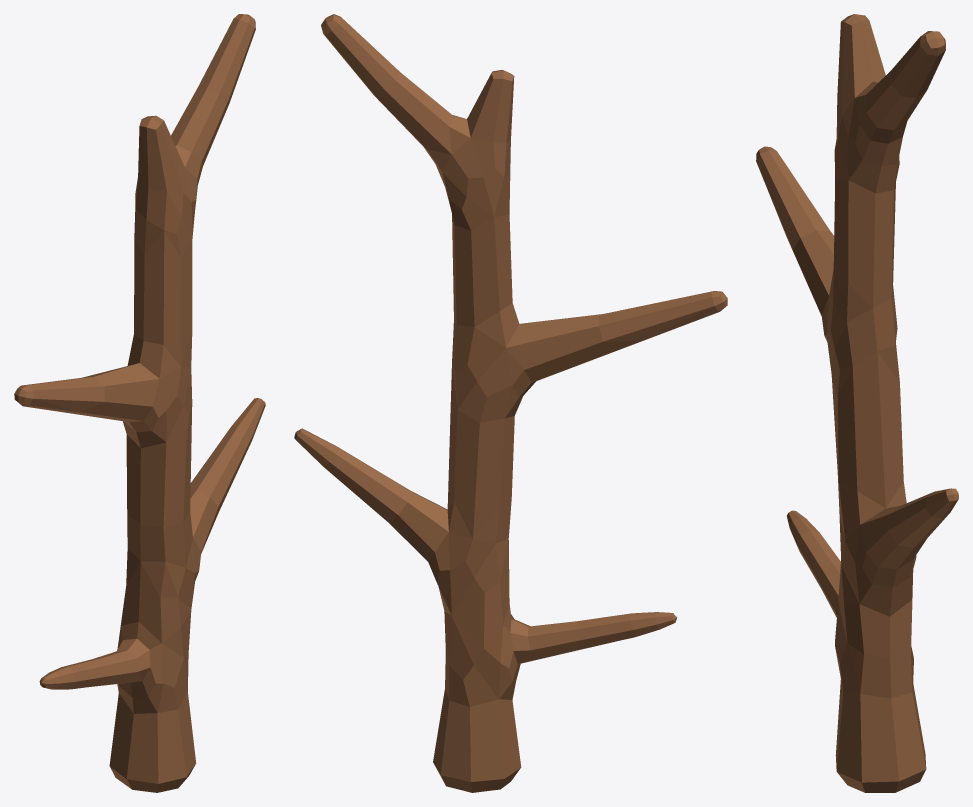
The model's file is tree-summer-trunk-11-030.glb.
The picture shows the model from 3 angles, left to right: view 1: azimuth 30°, elevation 25°; view 2: azimuth 150°, elevation 25°; view 3: azimuth 270°, elevation 25°; orthographic projection. The views are drawn at different scales.
Parts seen in each view (by area): view 1: TREE 11.001_283; view 2: TREE 11.001_283; view 3: TREE 11.001_283.
Boxes of the visible parts, x1,y1,x2,y2 form: TREE 11.001_283: [14, 14, 265, 792]; TREE 11.001_283: [294, 14, 727, 792]; TREE 11.001_283: [756, 14, 958, 792].
Bounding box in the file's own units: 0.7707 × 1.62 × 0.364.
